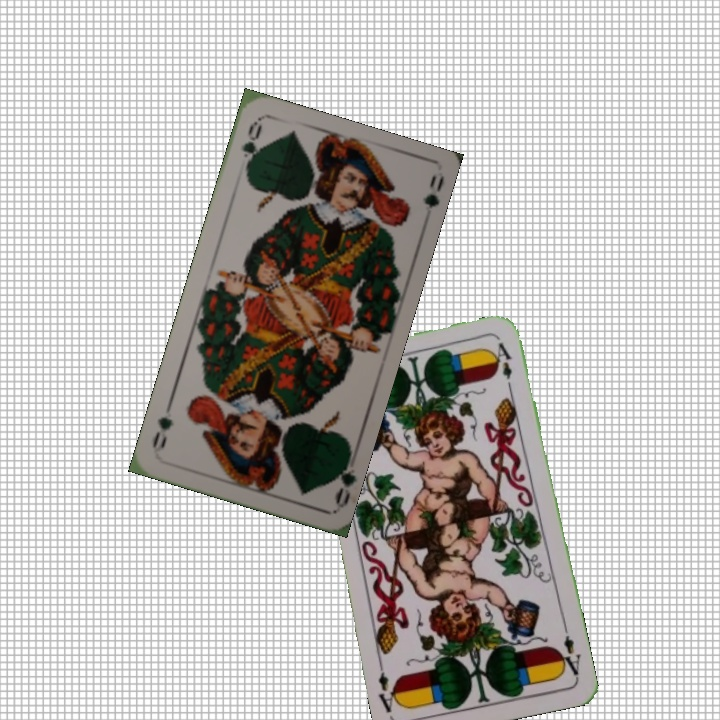EA: (554, 631, 583, 680)
GO: (326, 449, 357, 509), (238, 117, 265, 176)
